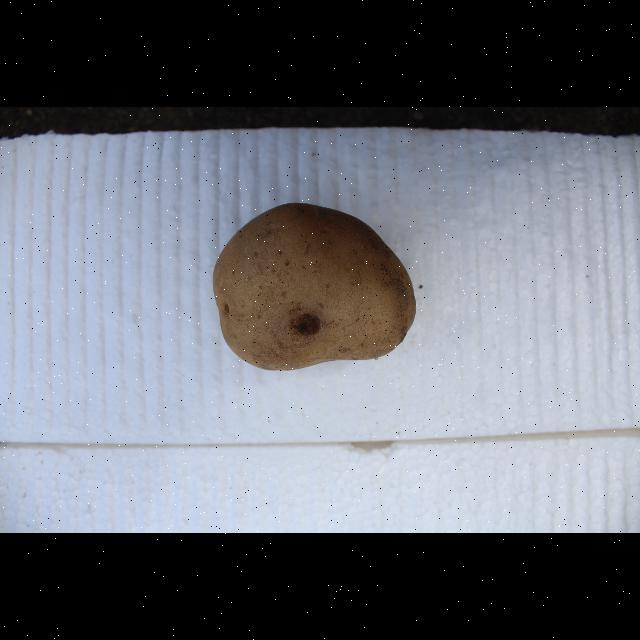Damaged potato: (223, 264, 432, 442)
